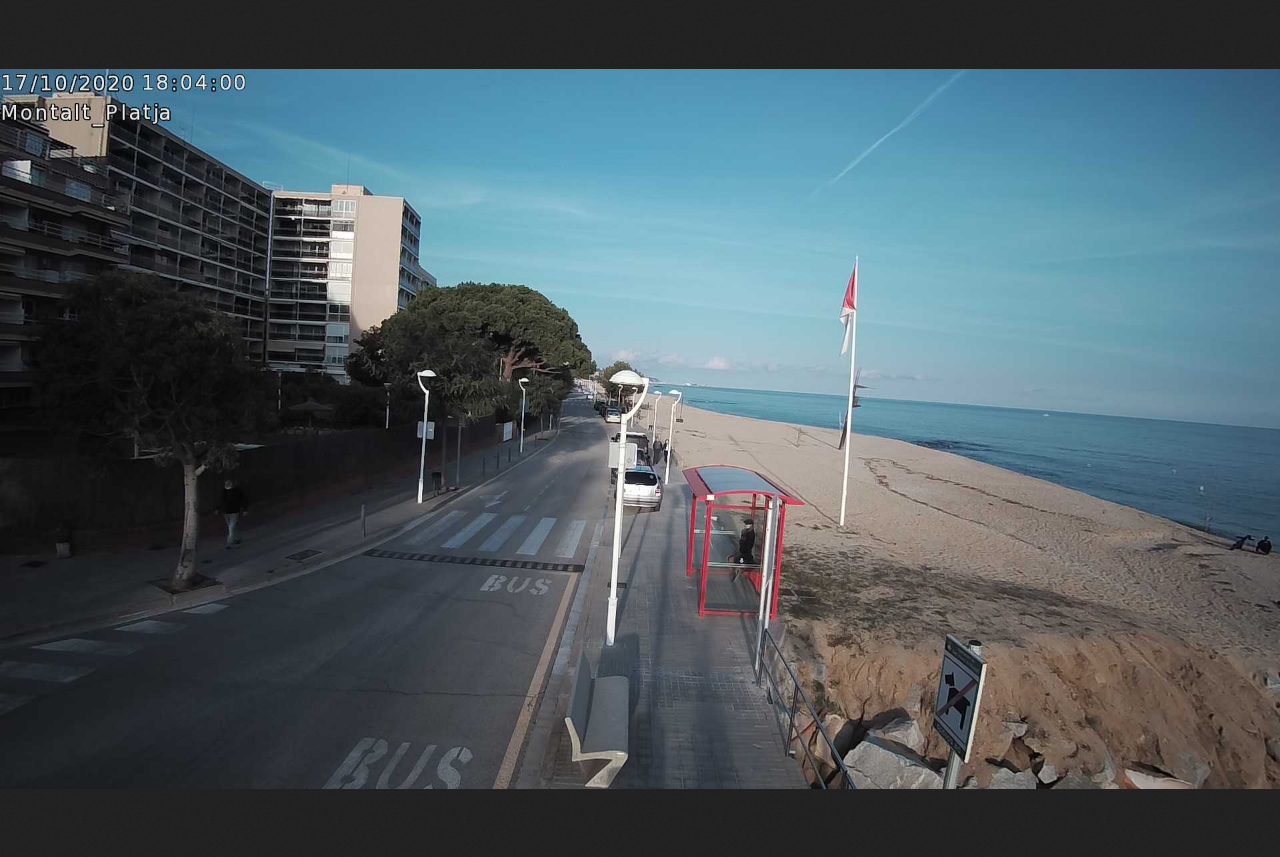no: (840, 267, 857, 349)
